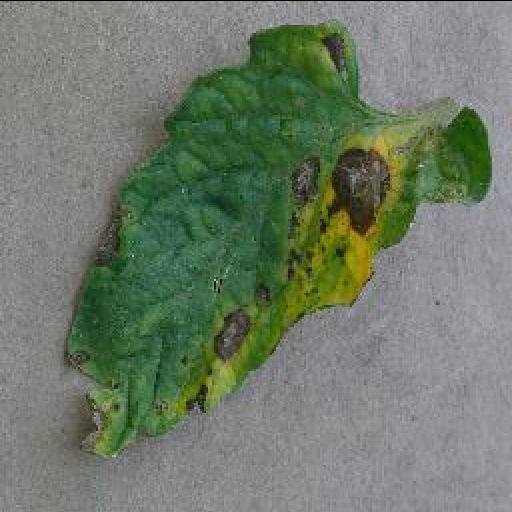disease_tomato: (58, 20, 494, 452)
